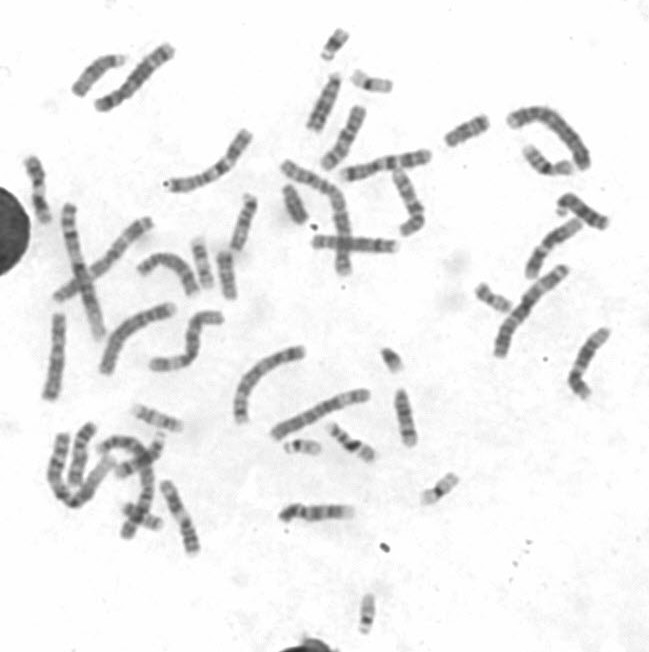chromosomes: (274, 156, 363, 283), (46, 212, 162, 308), (484, 258, 577, 370), (93, 431, 165, 552), (54, 199, 113, 341), (161, 119, 264, 200), (505, 97, 600, 181), (230, 339, 315, 431), (95, 298, 184, 380), (93, 42, 184, 119), (264, 384, 377, 446), (39, 429, 114, 512), (146, 307, 231, 378), (561, 317, 626, 406), (516, 213, 586, 287), (313, 100, 374, 178), (335, 143, 437, 189), (157, 475, 208, 564), (31, 307, 76, 406), (133, 248, 204, 303), (387, 164, 434, 244), (272, 494, 368, 533), (67, 46, 131, 103), (319, 416, 385, 469), (302, 64, 348, 140), (114, 424, 170, 485), (18, 150, 58, 231), (437, 104, 496, 155), (553, 189, 618, 234), (126, 397, 193, 440), (66, 414, 102, 491), (305, 231, 403, 259), (390, 381, 426, 457), (227, 188, 266, 256), (348, 585, 391, 645), (520, 139, 577, 182), (415, 467, 470, 510), (183, 230, 219, 292), (212, 248, 246, 310), (373, 337, 417, 384), (276, 182, 317, 232), (470, 273, 517, 316), (316, 21, 357, 68), (341, 66, 399, 99), (114, 501, 170, 535), (273, 436, 331, 464)
